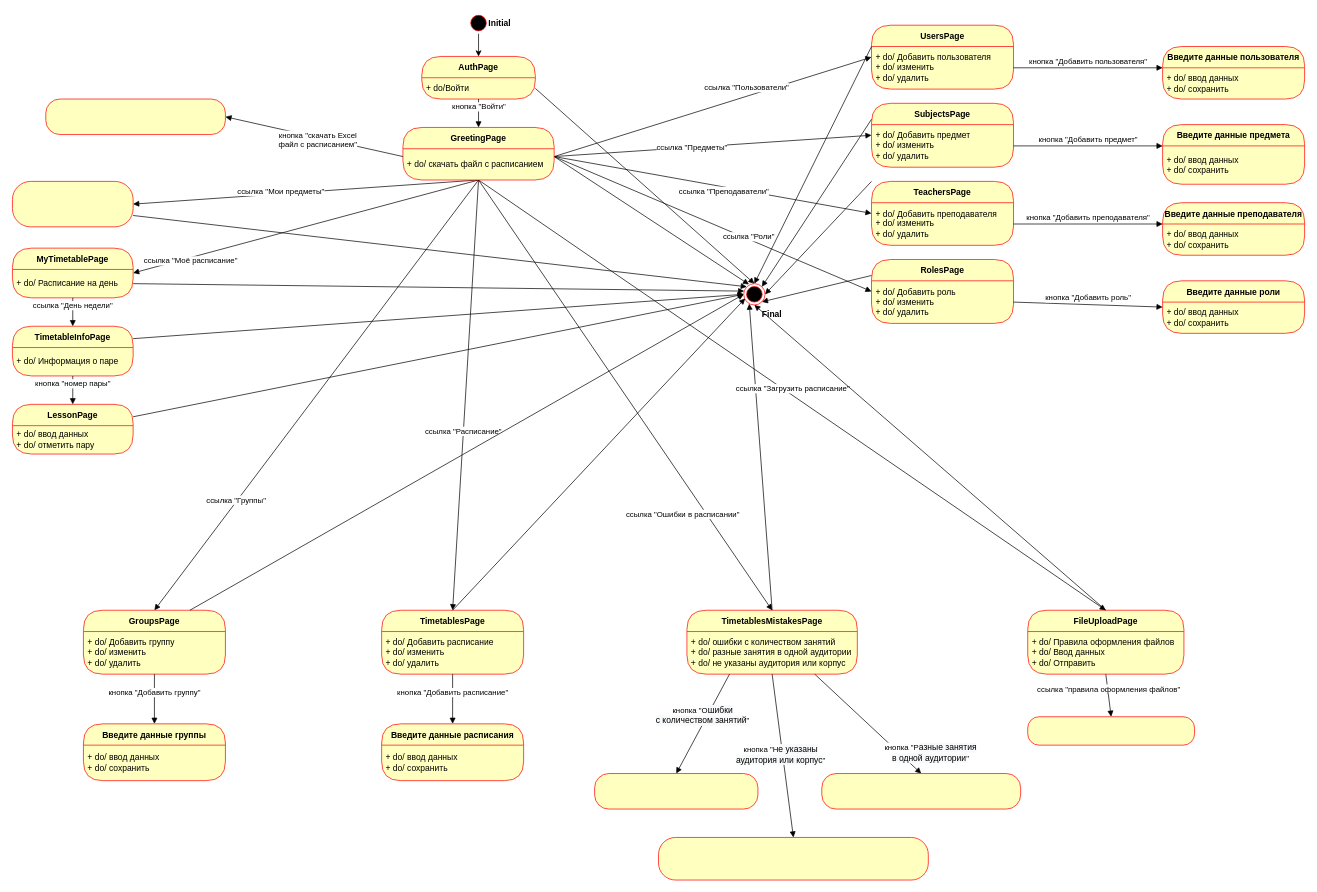
Some shapes in this 1317 by 892 pixel diagram are drawn without their labels. Each missing label, with the centre of its shape:
MyTimetables: [72,204]
Список занятий с неуказанными аудиториями или корпусами: [793,858]
Список ошибок с количеством занятий: [676,791]
Список разных занятий в одной аудитории: [921,791]
Файл с правилами оформления файлов: [1111,730]
Файл с расписанием для преподавателей: [135,116]
